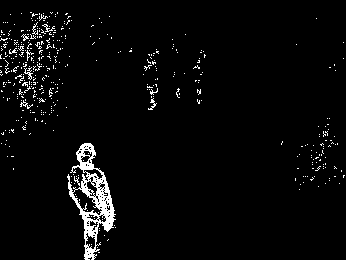person: (72, 140, 121, 260), (140, 55, 163, 113)
